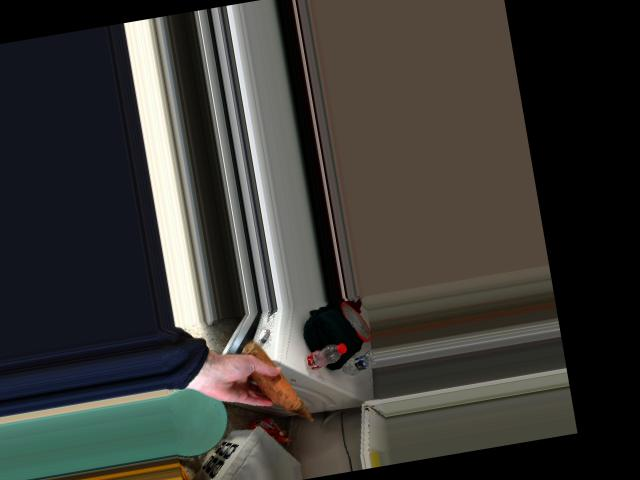sweet_potato: (249, 354, 303, 409)
